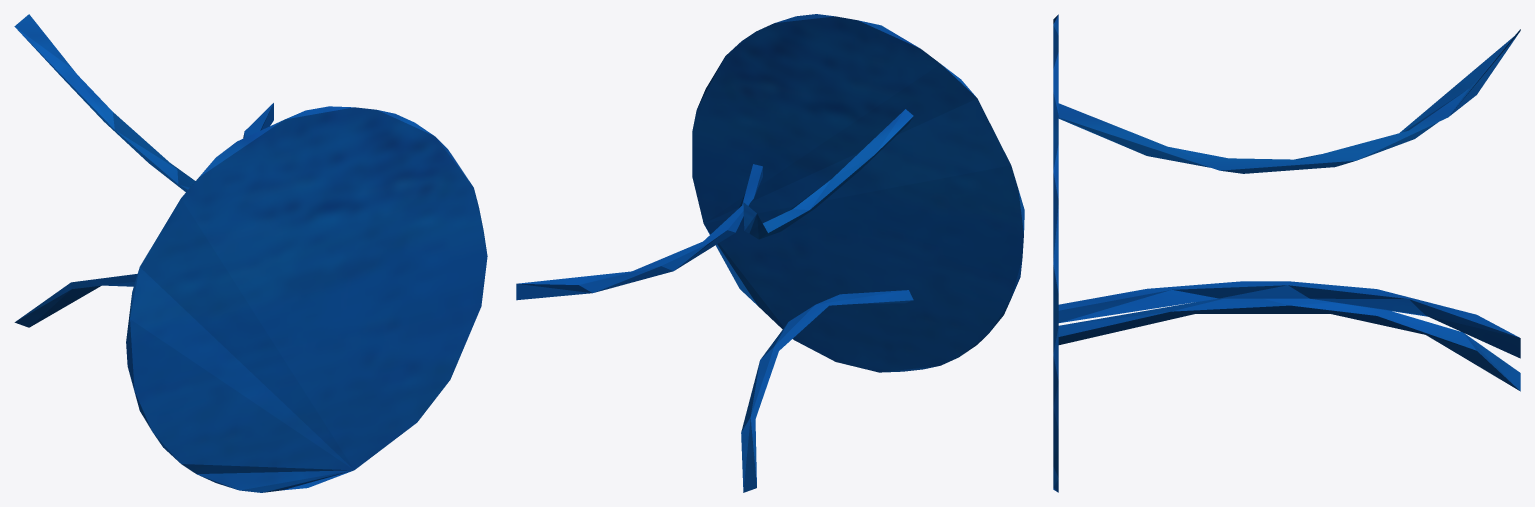
The model's file is table182_wtf.obj.
3 views of the same model, side by side, from view 1: azimuth 30°, elevation 25°; view 2: azimuth 150°, elevation 25°; view 3: azimuth 270°, elevation 25° (orthographic). The views are drawn at different scales.
Parts seen in each view (by area): view 1: group2; view 2: group2; view 3: group2.
Boxes of the visible parts, box(x1,y1,x2,y2) form: group2: box(14, 14, 487, 492); group2: box(516, 14, 1024, 492); group2: box(1053, 14, 1520, 492).
Size of the model in its own units: 660 by 660 by 643.
